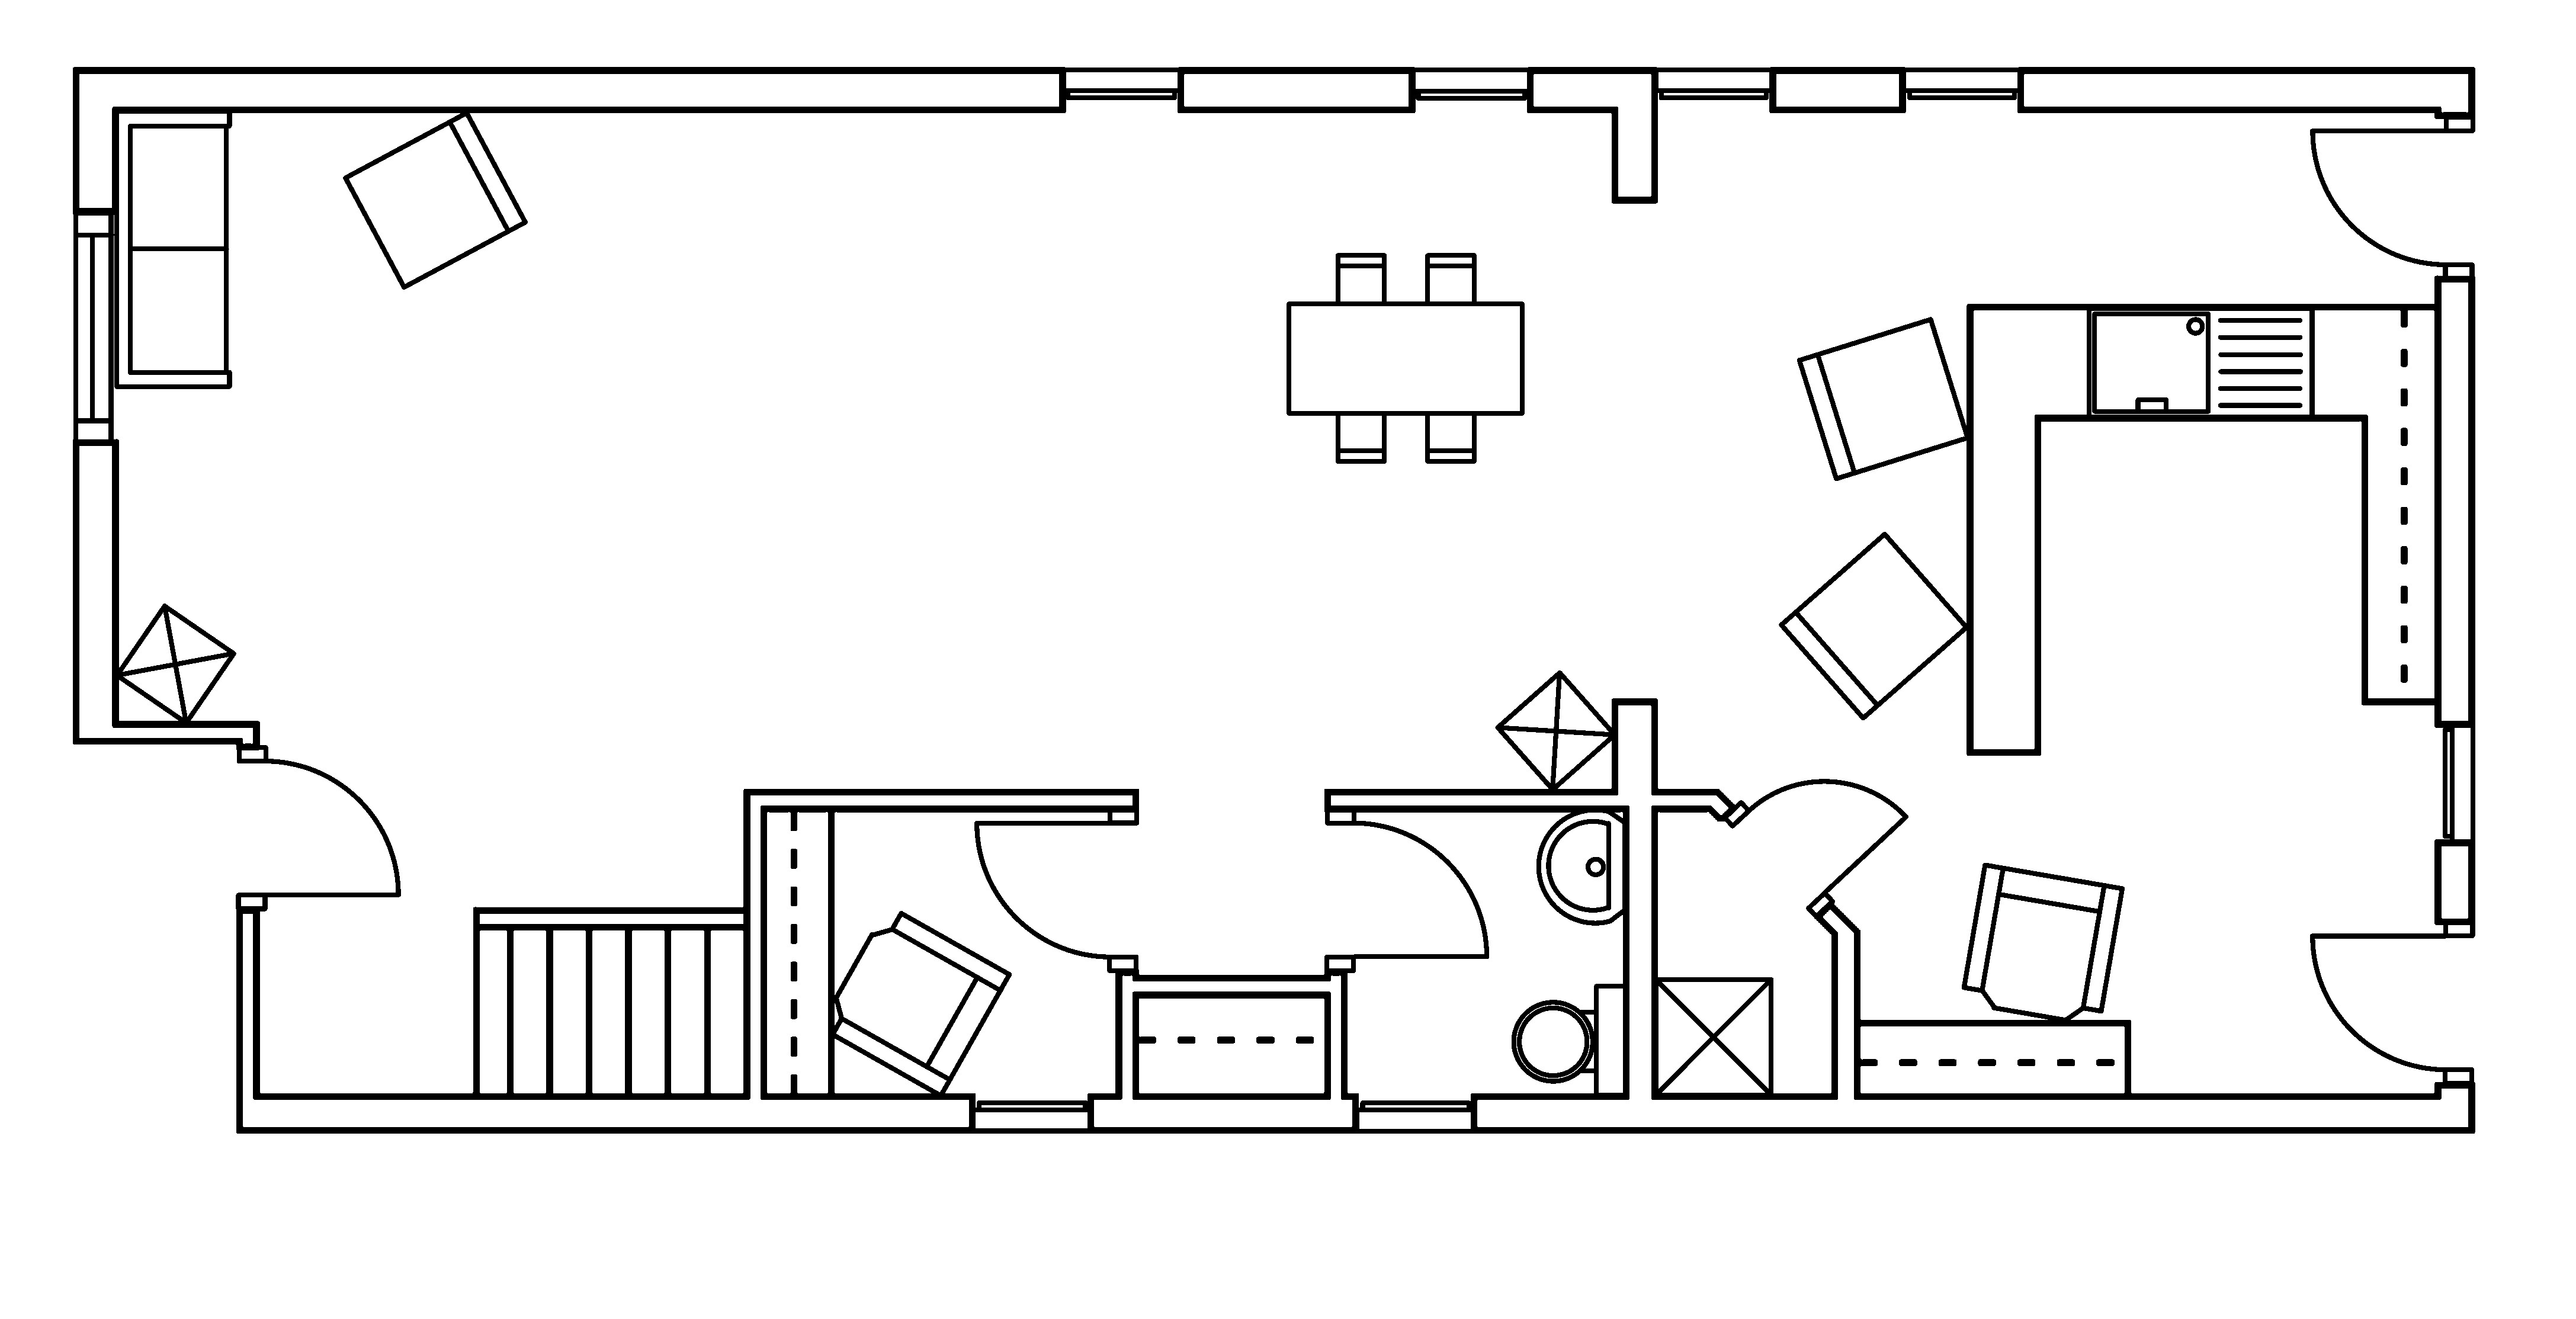armchair: (829, 910, 1012, 1099), (1961, 861, 2125, 1023)
coffee_table: (1493, 670, 1618, 792), (113, 602, 237, 725), (1651, 976, 1774, 1097)
dining_table: (1285, 252, 1525, 464)
large_sink: (1512, 983, 1628, 1097)
large_sofa: (113, 108, 232, 389)
sink: (2085, 305, 2314, 421)
small_sink: (1535, 808, 1628, 925)
small_sofa: (1777, 530, 1969, 720), (341, 109, 528, 289), (1796, 316, 1971, 481)
